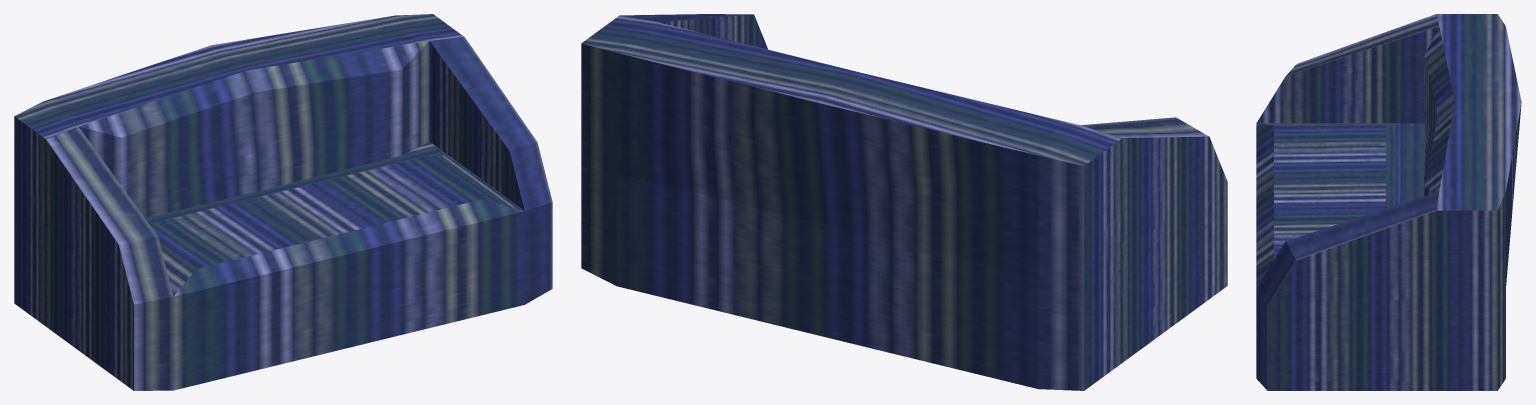
The model's file is couch.glb.
3 views of the same model, side by side, from view 1: azimuth 30°, elevation 25°; view 2: azimuth 150°, elevation 25°; view 3: azimuth 270°, elevation 25° (orthographic). The views are drawn at different scales.
Parts seen in each view (by area): view 1: Cube; view 2: Cube; view 3: Cube.
Part boxes in pixels (left/top/right/bottom): Cube: left=14, top=14, right=552, bottom=390; Cube: left=581, top=14, right=1227, bottom=390; Cube: left=1256, top=14, right=1521, bottom=390.
Size of the model in its own units: 10.13 by 4.66 by 5.77.
1 material, 1 textured.
